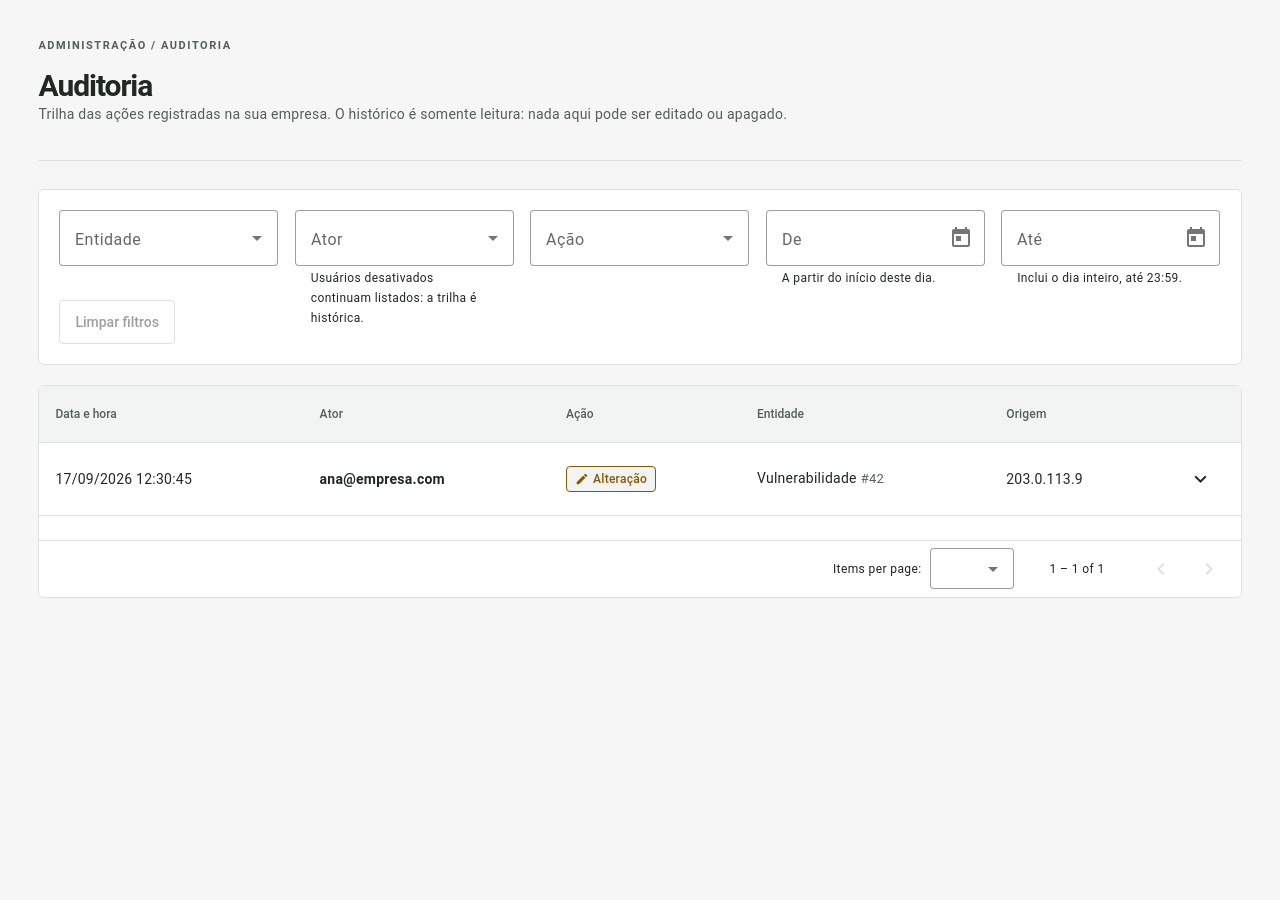
AuditListComponent › a comparação de uma linha com JSON truncado não derruba a tela
The image size is (1280, 900).
Click the button named "Ver a comparação de valores de Alteração em Vulnerabilidade" at (1201, 478), box [1177, 454, 1225, 502]
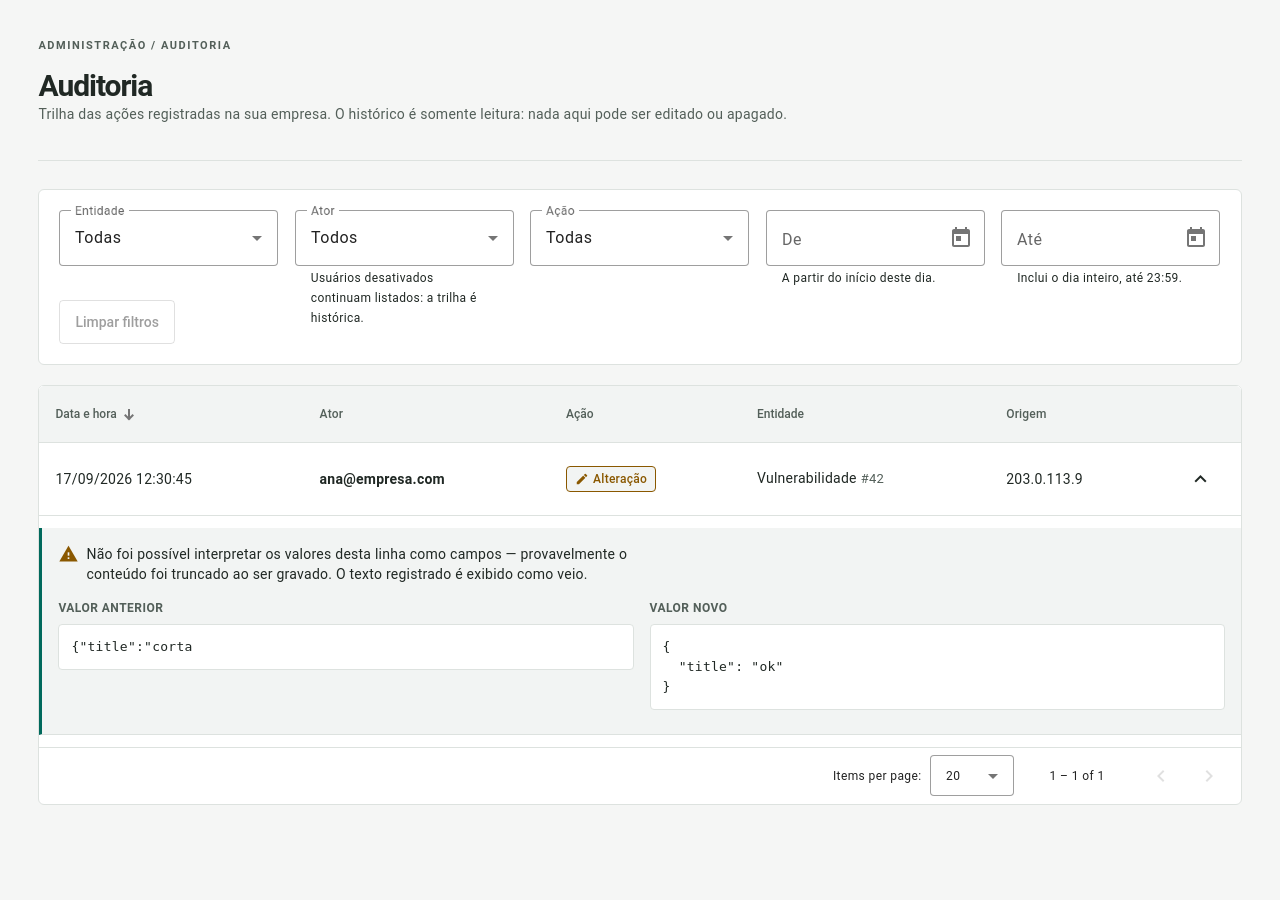
expect the text "{\"title\":\"corta" is shown: met, box [58, 624, 634, 670]
